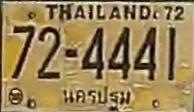1: (168, 27, 176, 80)
2: (37, 26, 60, 78)
4: (133, 26, 156, 80), (108, 26, 130, 78), (81, 26, 103, 78)
7: (11, 24, 34, 78)
NPT: (62, 84, 131, 111)
